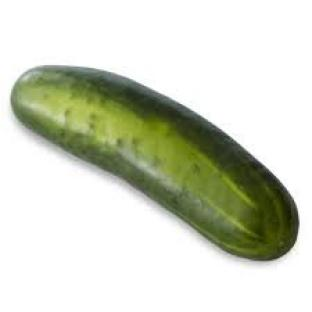Cucumber: (12, 67, 298, 259)
